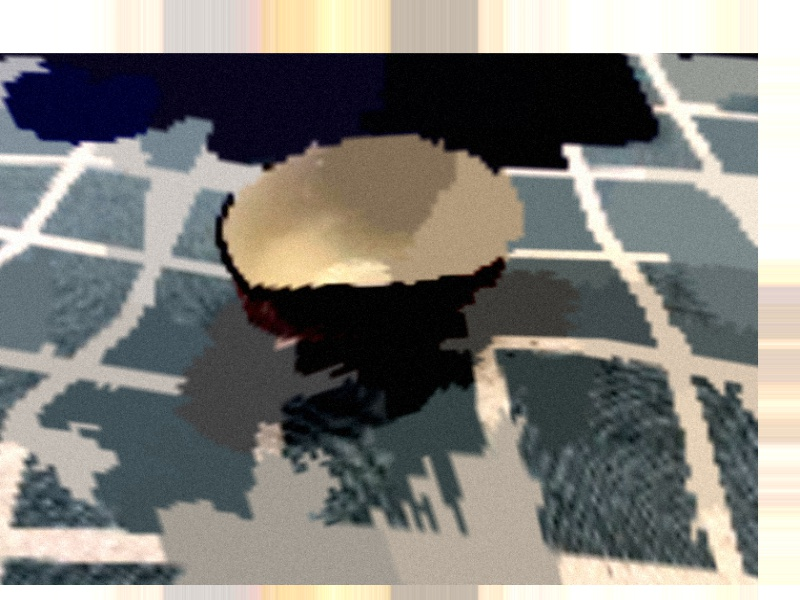bowl_small: (200, 117, 546, 391)
